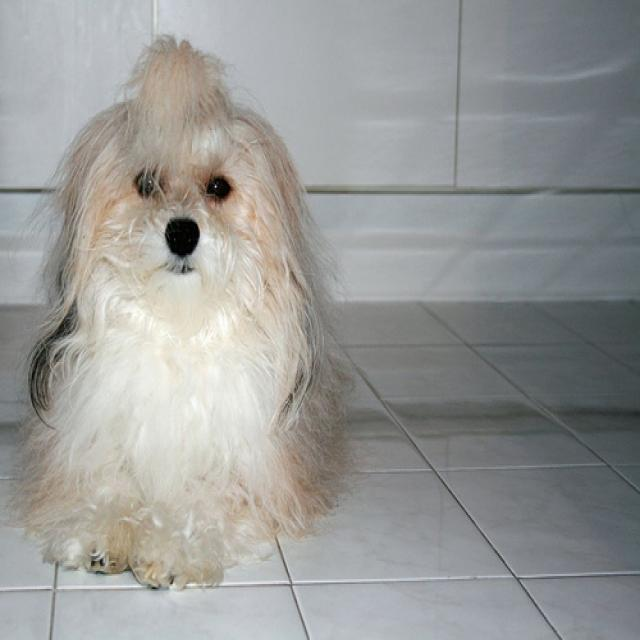dog-havanese: (15, 26, 332, 591)
